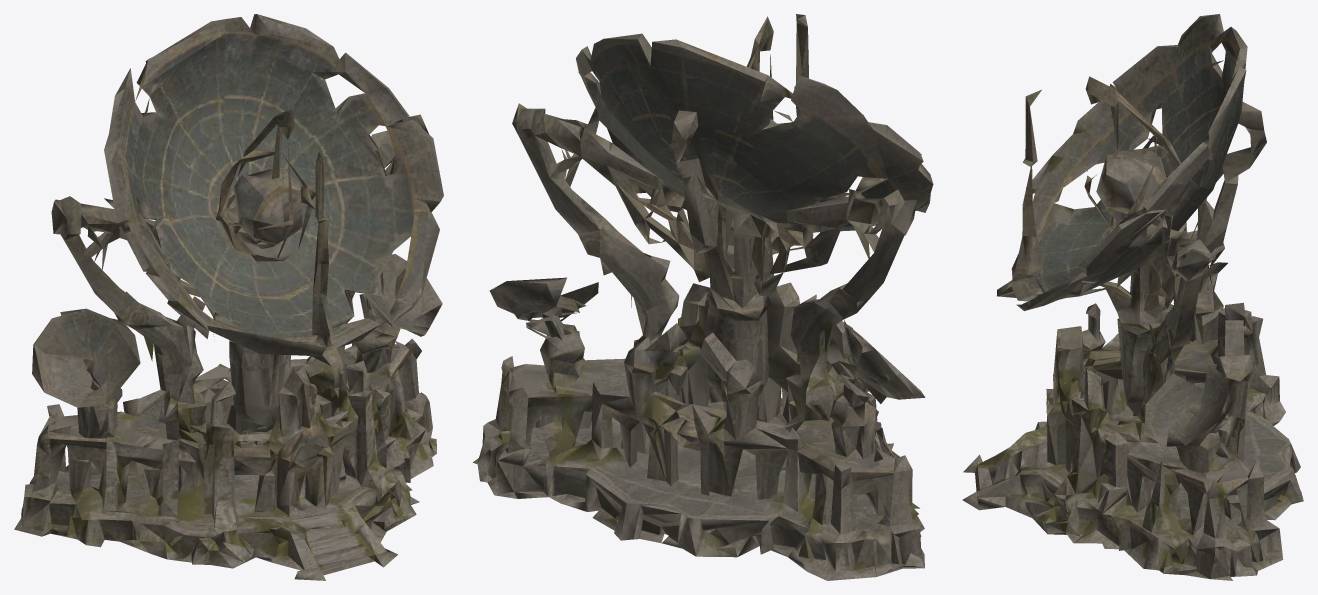
Rendered from monument_ancient_observatory.glb.
3 renders of one model, left to right at view 1: azimuth 30°, elevation 25°; view 2: azimuth 150°, elevation 25°; view 3: azimuth 270°, elevation 25°, orthographic. The views are drawn at different scales.
Size of the model in its own units: 1.84 by 1.9 by 1.33.
Materials: 1 (1 with a texture image).
